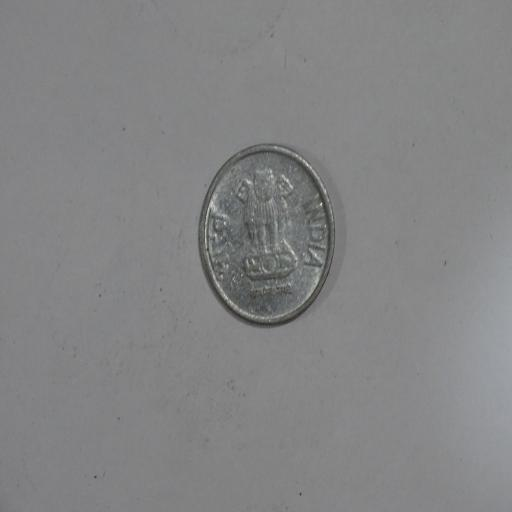rupee1: (195, 142, 337, 327)
